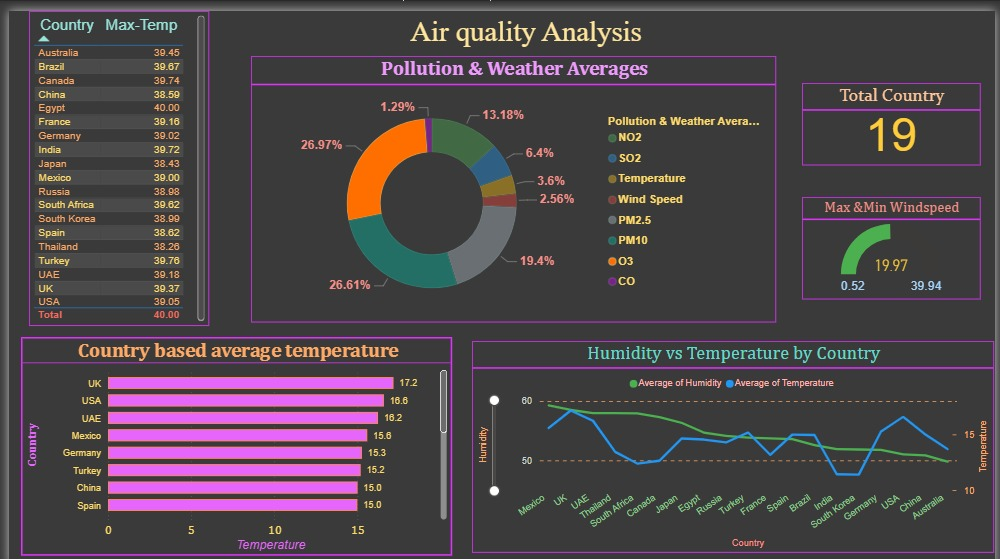

The page's visual inventory and layout, read from the dashboard file:
{"tool":"powerbi","page":{"name":"Page 1","canvas":[1280,720],"ordinal":0},"visuals":[{"type":"donutChart","fields":{"Y":["Avg(air_quality_dataset(in).NO2)","Avg(air_quality_dataset(in).SO2)","Avg(air_quality_dataset(in).Temperature)","Avg(air_quality_dataset(in).Wind Speed)","Avg(air_quality_dataset(in).PM2.5)","Avg(air_quality_dataset(in).PM10)","Avg(air_quality_dataset(in).O3)","Avg(air_quality_dataset(in).CO)"]},"box":[280,70.9,718.2,347.3],"z":0},{"type":"slicer","fields":{"Values":["air_quality_dataset(in).Country"]},"box":[1030.9,70.9,230.9,74.5],"z":1000},{"type":"tableEx","fields":{"Values":["air_quality_dataset(in).Country","Max(air_quality_dataset(in).Temperature)"]},"box":[18.2,70.9,249.1,365.5],"z":2000},{"type":"clusteredBarChart","fields":{"Category":["air_quality_dataset(in).Country"],"Y":["Avg(air_quality_dataset(in).Temperature)"]},"box":[5.5,436.4,580,283.6],"z":3000},{"type":"gauge","fields":{"Y":["Max(air_quality_dataset(in).Temperature)"],"MinValue":["Min(air_quality_dataset(in).Temperature)"]},"box":[1030.9,167.3,230.9,132.7],"z":4000},{"type":"card","fields":{"Values":["Count(air_quality_dataset(in).Country)"]},"box":[1027.3,318.2,238.2,118.2],"z":5000},{"type":"lineChart","fields":{"Category":["air_quality_dataset(in).Country"],"Y":["Avg(air_quality_dataset(in).Humidity)"],"Y2":["Avg(air_quality_dataset(in).Temperature)"]},"box":[600,436.4,680,283.6],"z":6000},{"type":"textbox","box":[18.2,0,1261.8,50.9],"z":7000}]}

Visuals, with their boxes in screenshot pixels (x1, y1, x2, y2), scaled from the page's 1280x720 canvas onto the 1000x559 screenshot:
donutChart - Avg(air_quality_dataset(in).NO2) x Avg(air_quality_dataset(in).SO2): Rect(219, 55, 780, 325)
slicer - air_quality_dataset(in).Country: Rect(805, 55, 986, 113)
tableEx - air_quality_dataset(in).Country x Max(air_quality_dataset(in).Temperature): Rect(14, 55, 209, 339)
clusteredBarChart - air_quality_dataset(in).Country x Avg(air_quality_dataset(in).Temperature): Rect(4, 339, 457, 558)
gauge - Max(air_quality_dataset(in).Temperature) x Min(air_quality_dataset(in).Temperature): Rect(805, 130, 986, 233)
card - Count(air_quality_dataset(in).Country): Rect(803, 247, 989, 339)
lineChart - air_quality_dataset(in).Country x Avg(air_quality_dataset(in).Humidity): Rect(469, 339, 999, 558)
textbox: Rect(14, 0, 999, 40)
